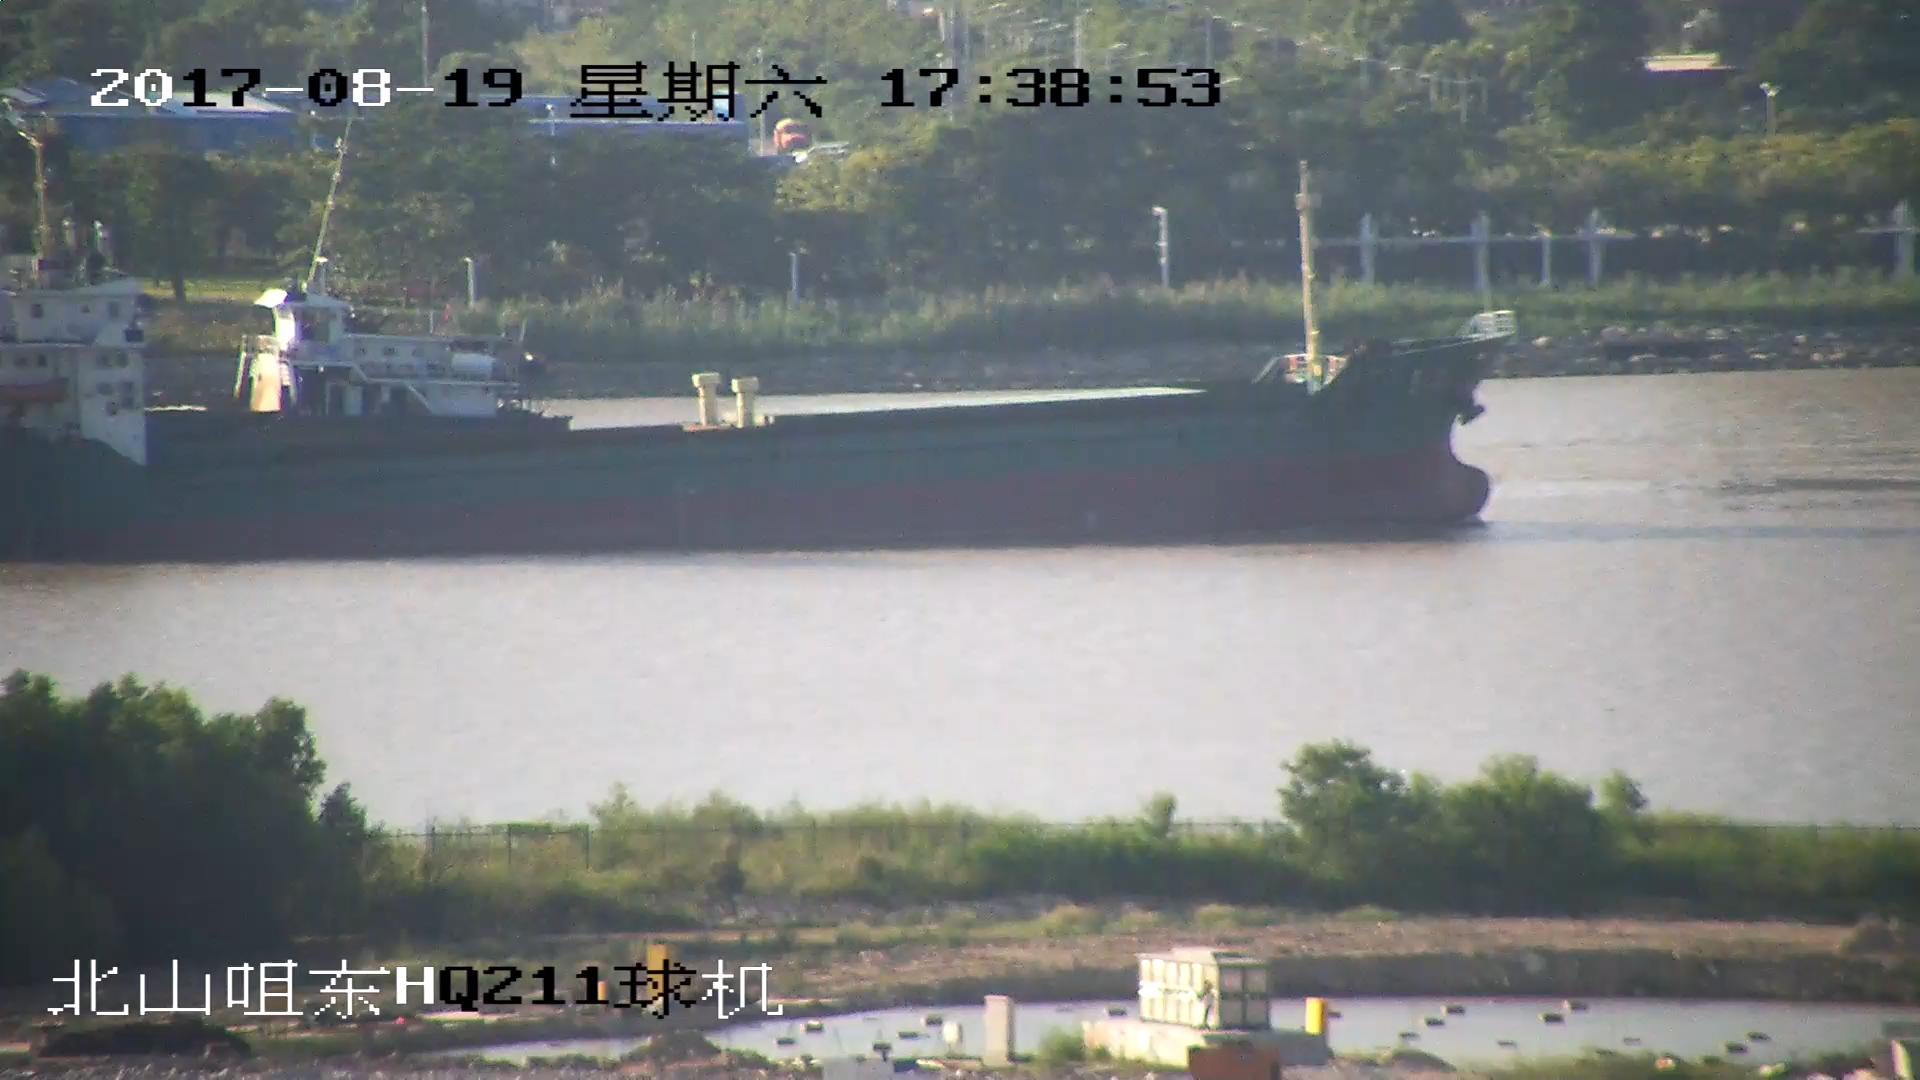general cargo ship: (1, 302, 1532, 537)
